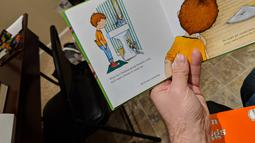text block: (104, 56, 154, 85), (136, 72, 166, 87)
